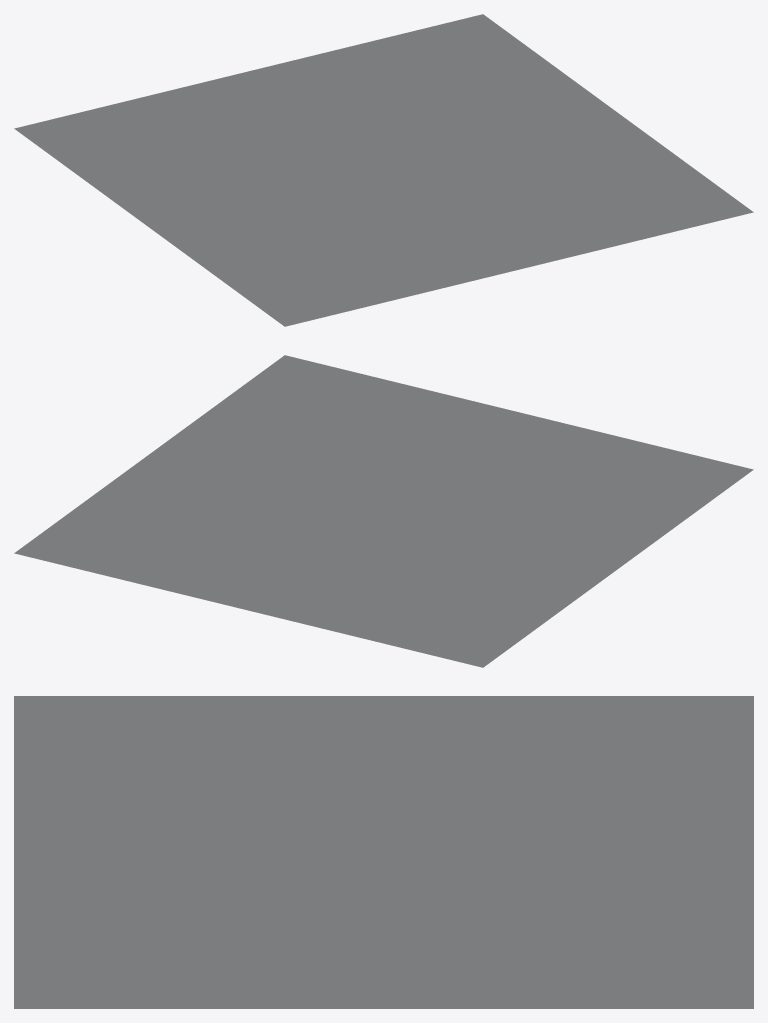
The model's file is Ceiling_type_B_051.glb.
3 views of the same model, one above another, from view 1: azimuth 30°, elevation 25°; view 2: azimuth 150°, elevation 25°; view 3: azimuth 270°, elevation 25° (orthographic). The views are drawn at different scales.
Parts seen in each view (by area): view 1: Ceiling_type_B_051; view 2: Ceiling_type_B_051; view 3: Ceiling_type_B_051.
Part boxes in pixels (x1=…): Ceiling_type_B_051: x1=14, y1=14, x2=753, y2=326; Ceiling_type_B_051: x1=14, y1=355, x2=753, y2=667; Ceiling_type_B_051: x1=14, y1=696, x2=753, y2=1008.
Size of the model in its own units: 4 by 0.035 by 4.
Materials: 2 (2 with a texture image).
